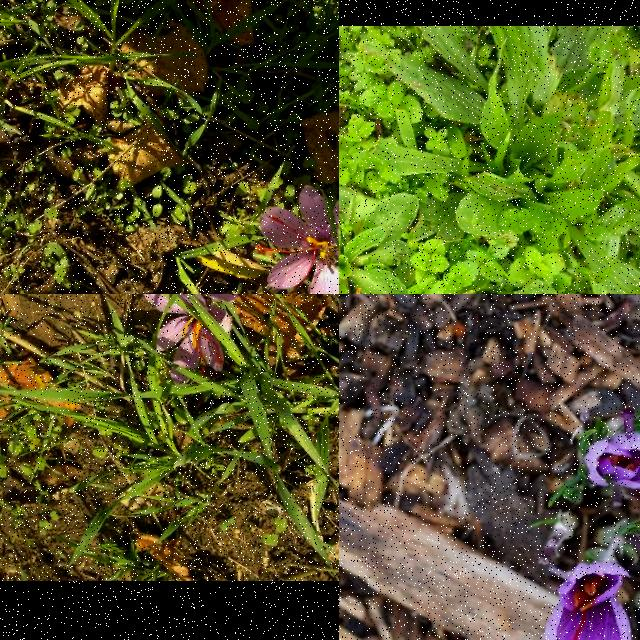flower: (255, 186, 339, 294), (140, 294, 231, 385), (544, 564, 633, 640), (585, 435, 640, 493)
